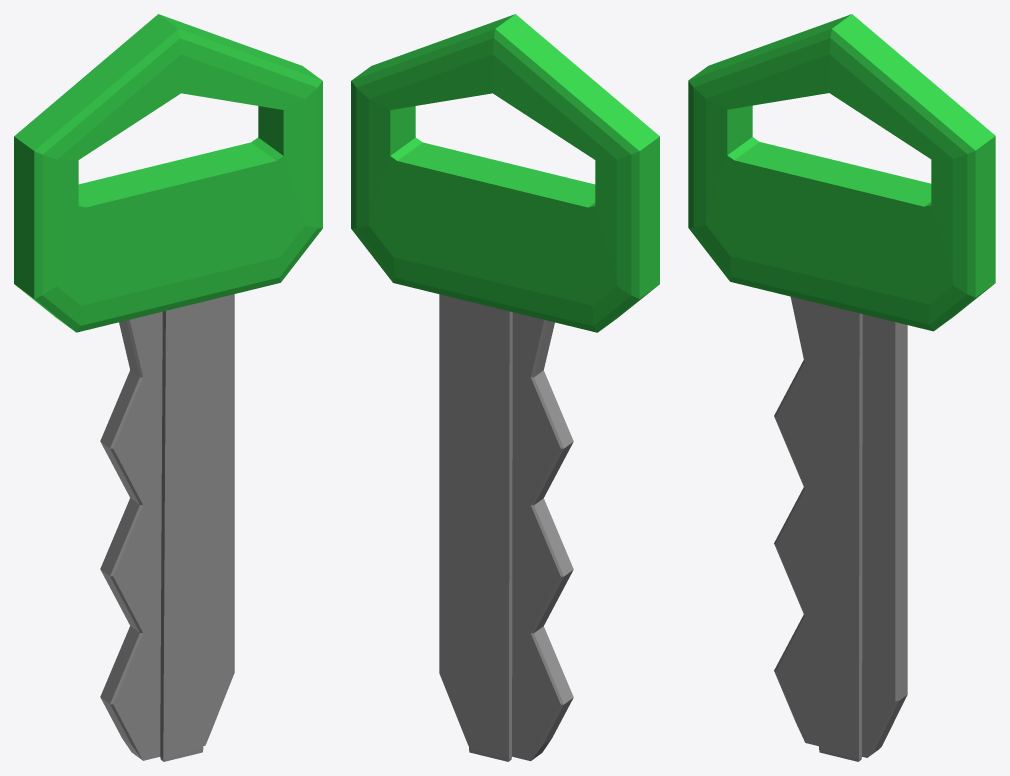
File: Llave03.fbx
3 views of the same model, side by side, from view 1: azimuth 30°, elevation 25°; view 2: azimuth 150°, elevation 25°; view 3: azimuth 330°, elevation 25° (orthographic).
Visible parts, largest first — view 1: Llave03; view 2: Llave03; view 3: Llave03.
Boxes of the visible parts, x1,y1,x2,y2 form: Llave03: (14, 14, 322, 761); Llave03: (351, 14, 659, 761); Llave03: (688, 14, 995, 761).
Bounding box in the file's own units: 5.84 × 14.14 × 0.8918.
